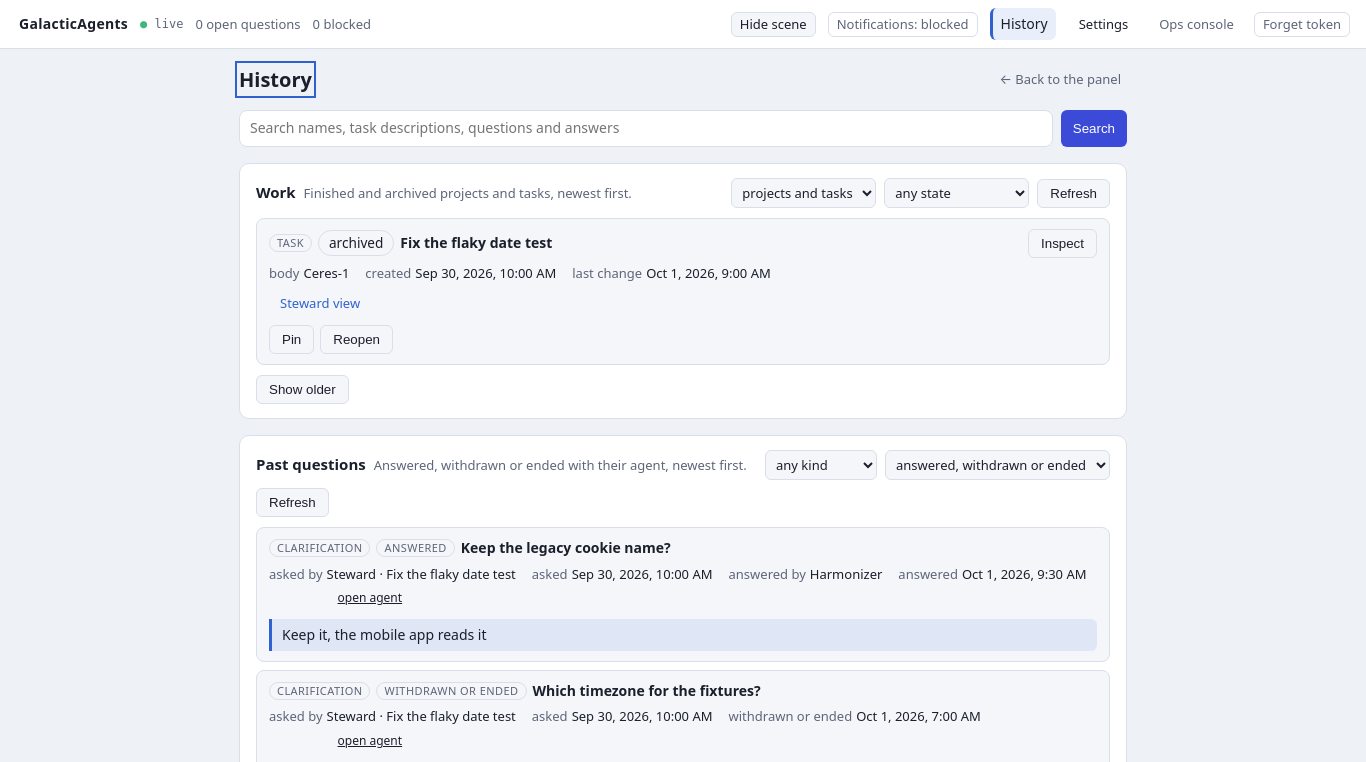
it: history view (P25-10) › finds an archived task by text and reopens it
Expected: the list item "Fix the flaky date test" is shown, [256,218,1110,365]
In the search field named "Search the history": [646, 128] box [239,110,1053,147], type "flaky"
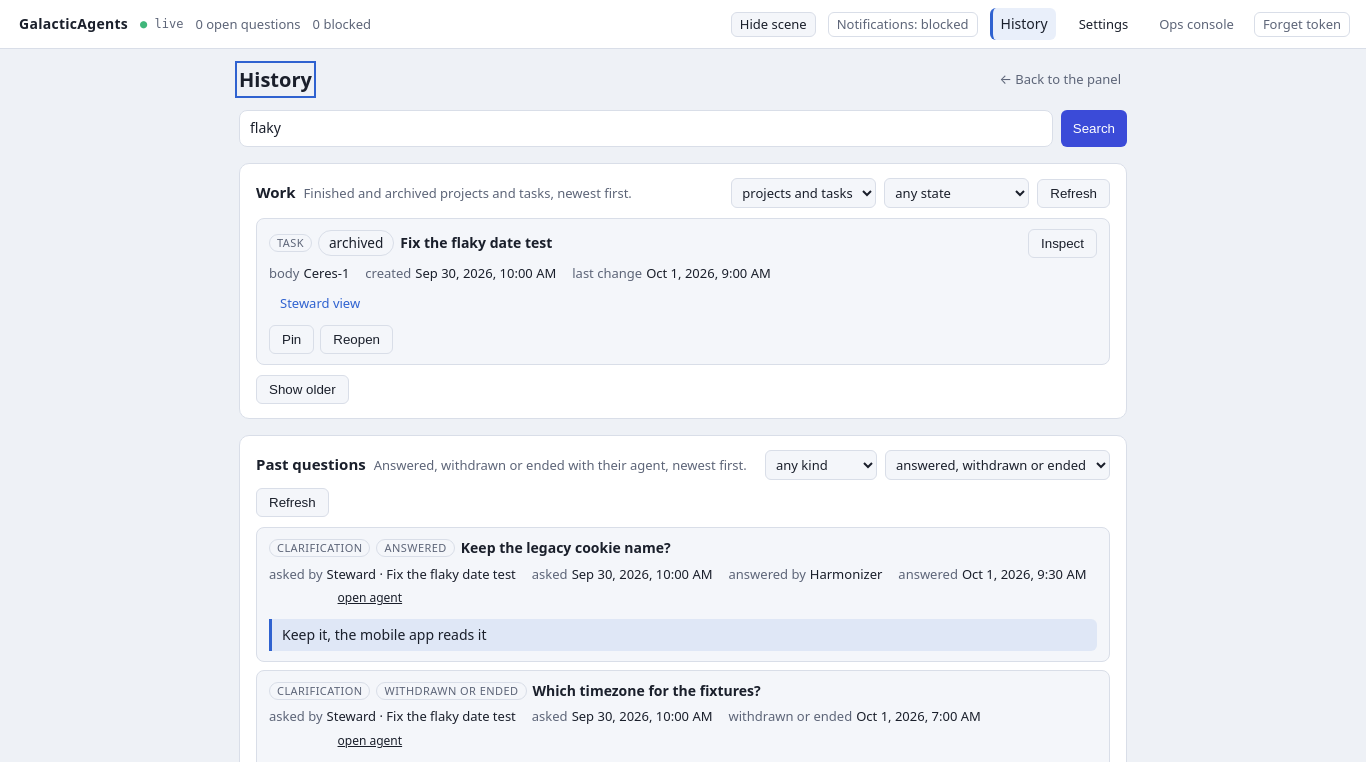
Submit the form, box [239,110,1127,147]
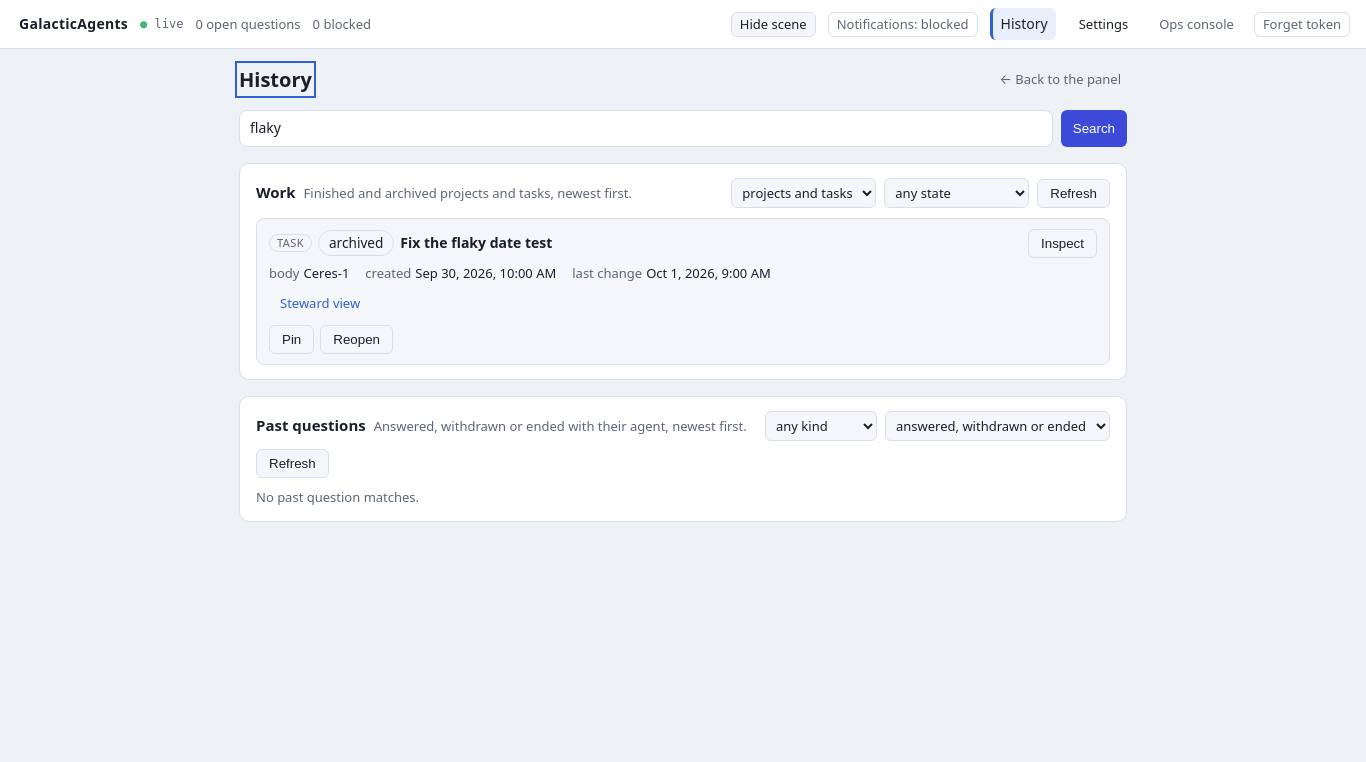
Expected: the text "archived" is shown, [318,230,394,256]
Expected: the text "Ceres-1" is shown, [304,264,349,282]
Click the button "Reopen": [357, 340] box [320,325,393,354]
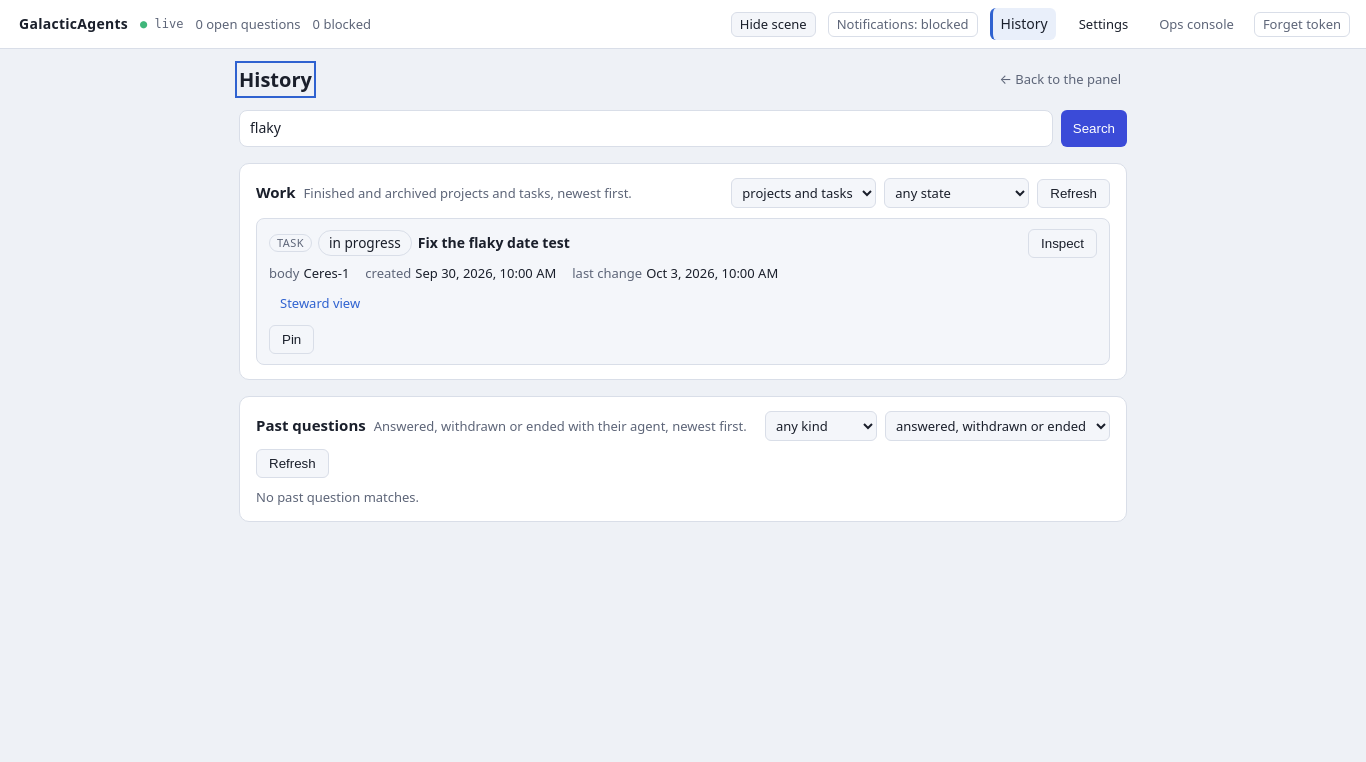
Expected: the text "in progress" is shown, [318,230,412,256]
Expected: the button "Reopen" is gone
